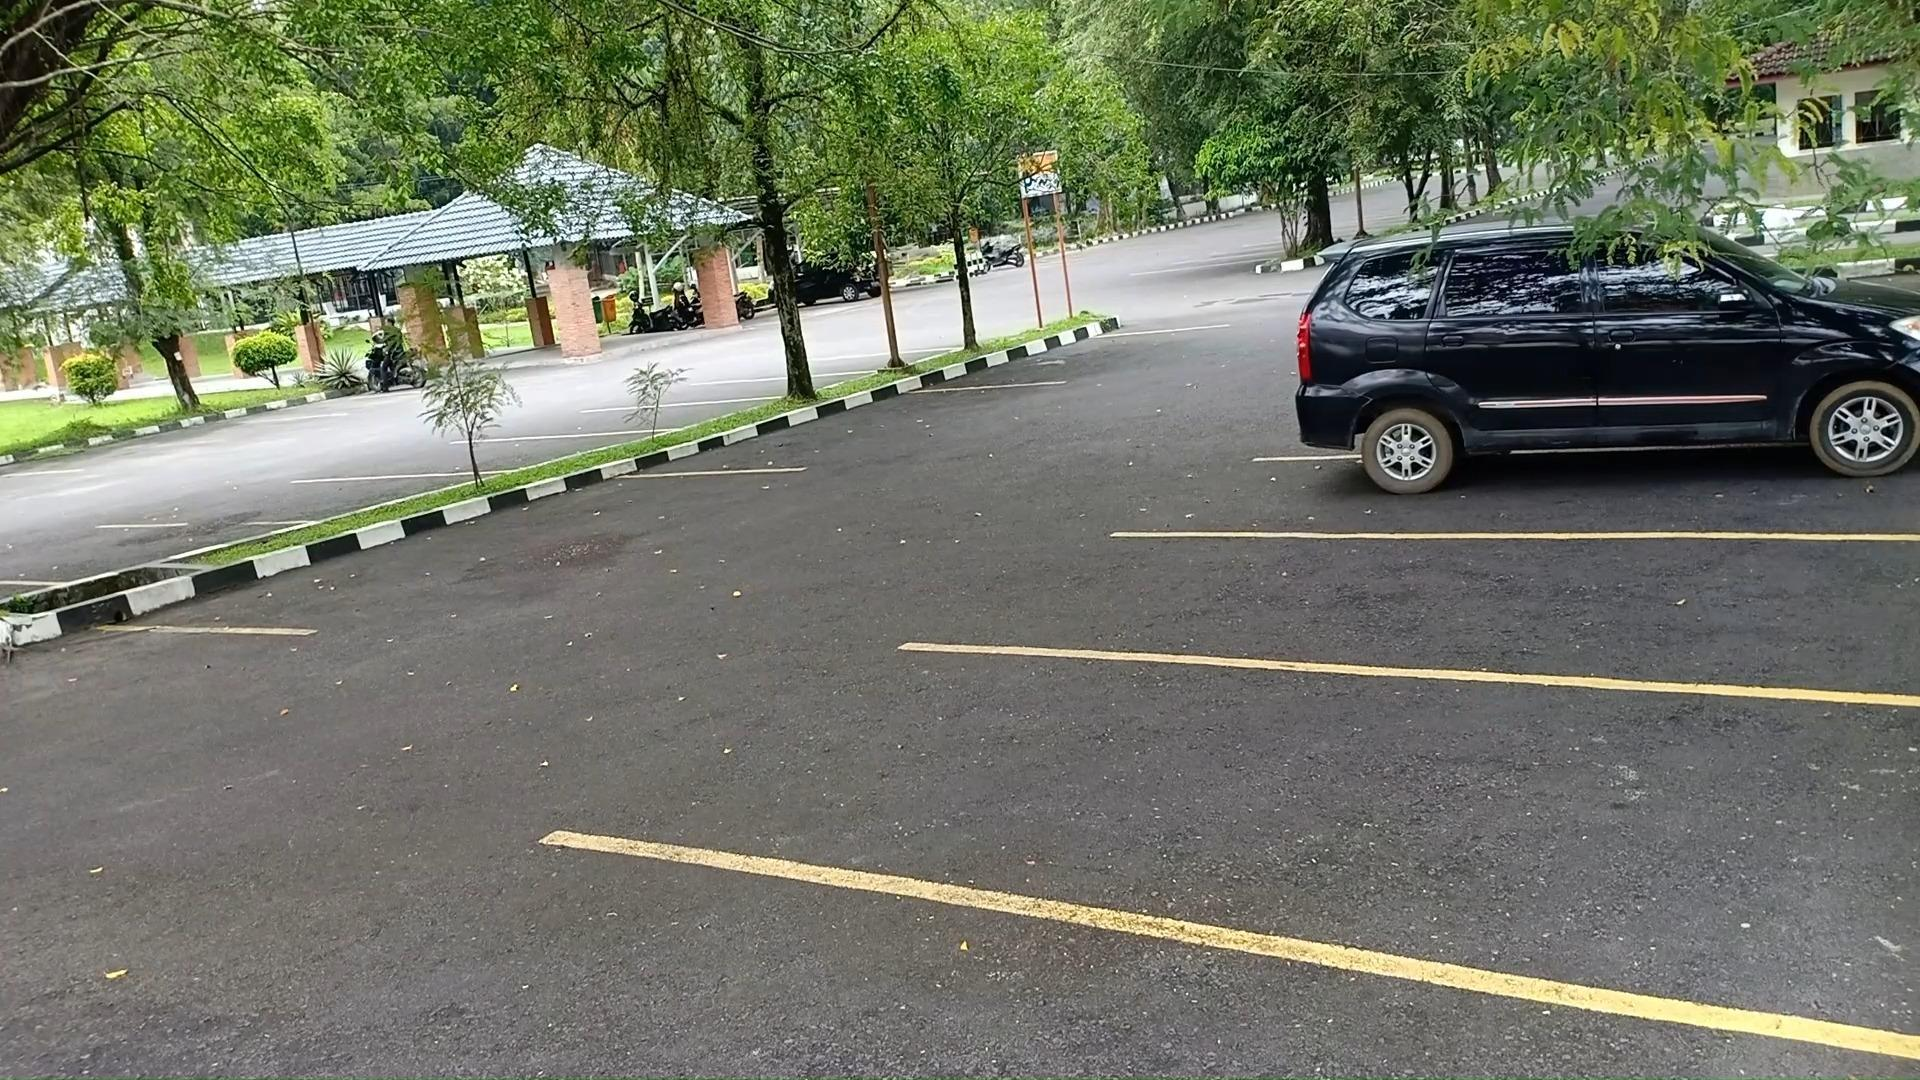empty: (904, 665, 1920, 957), (1119, 530, 1920, 700), (750, 388, 990, 478), (248, 475, 406, 530), (430, 434, 584, 478), (580, 402, 742, 436)
occupied: (1286, 324, 1920, 540)
